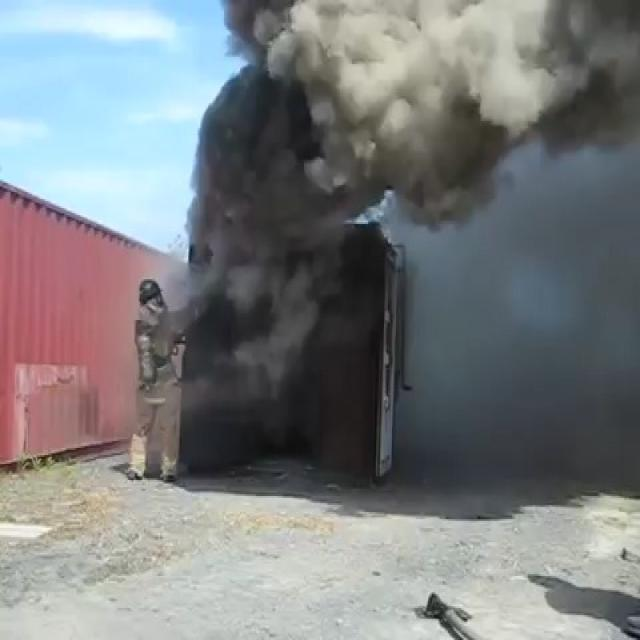Smoke: (188, 5, 640, 199)
